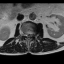CCS_normal: (27, 33, 29, 40)
LFS_stenosis: (31, 32, 33, 37)
LLS_normal: (29, 33, 31, 38)
RFS_normal: (23, 31, 26, 37)
RLS_normal: (26, 33, 27, 39)
